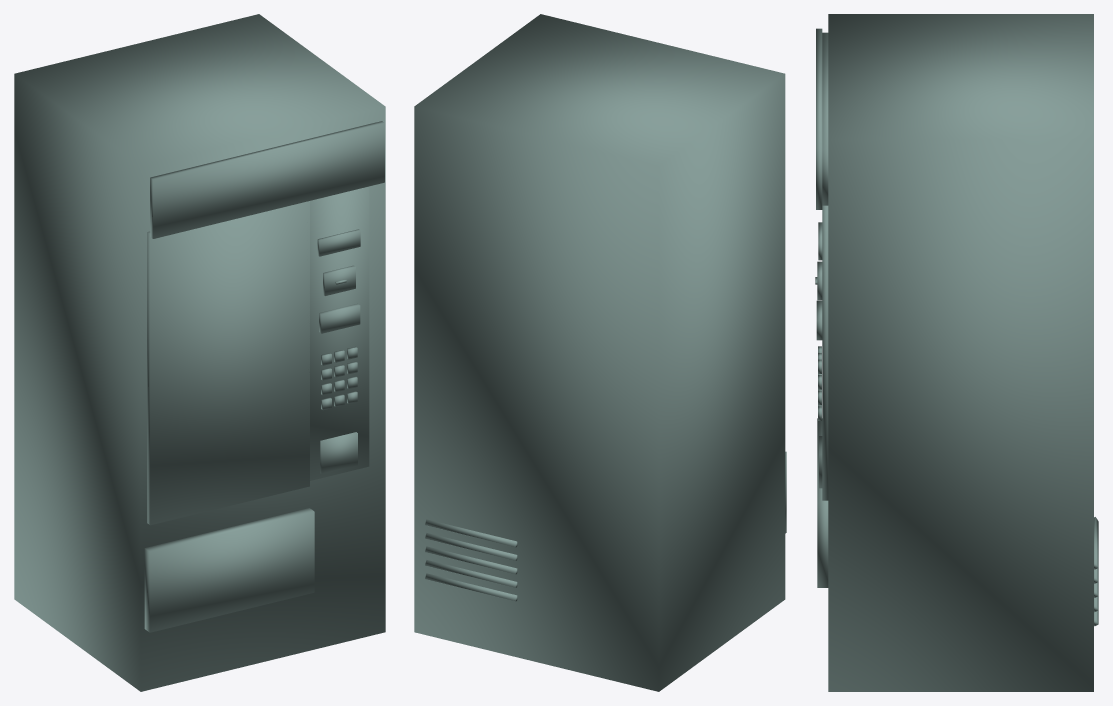
Rendered from SM_Vending_Machine.fbx.
The picture shows the model from 3 angles, left to right: view 1: azimuth 30°, elevation 25°; view 2: azimuth 150°, elevation 25°; view 3: azimuth 270°, elevation 25°; orthographic projection. The views are drawn at different scales.
Visible parts, largest first — view 1: SM_Vending_Machine; view 2: SM_Vending_Machine; view 3: SM_Vending_Machine.
Boxes of the visible parts, x1,y1,x2,y2 form: SM_Vending_Machine: (14,14,385,691); SM_Vending_Machine: (414,14,786,691); SM_Vending_Machine: (815,14,1098,691).
Size of what is drawn, in the model's own units: 95 by 195 by 90.65.
